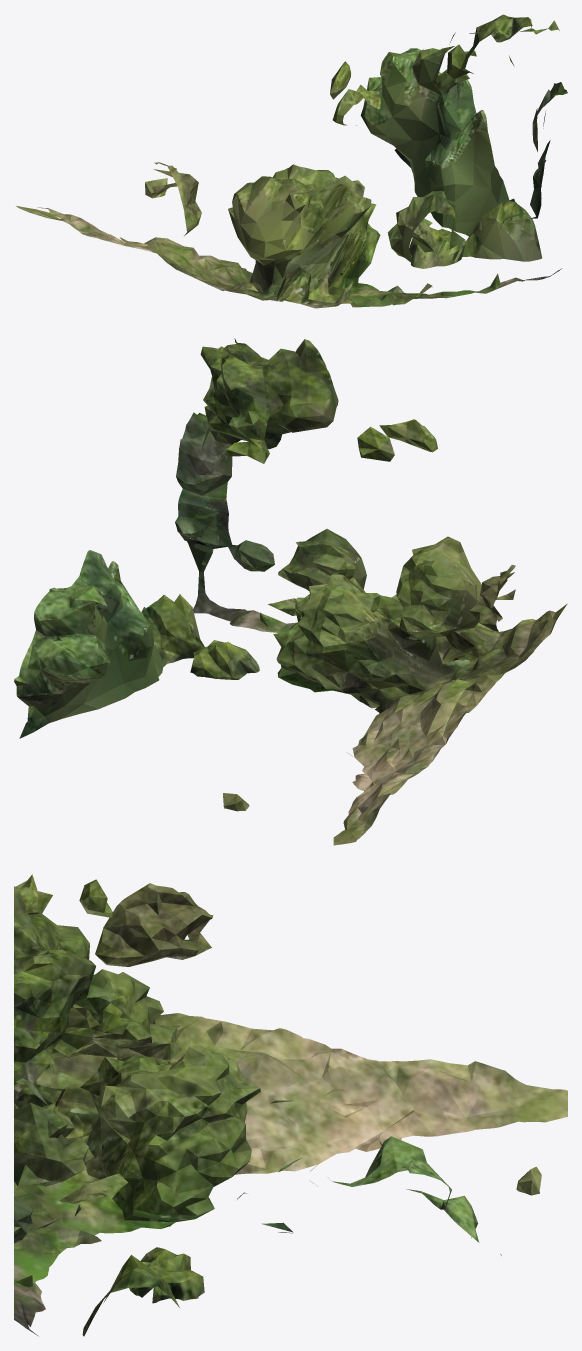
3 renders of one model, top to bottom at view 1: azimuth 30°, elevation 25°; view 2: azimuth 150°, elevation 25°; view 3: azimuth 270°, elevation 25°, orthographic. The views are drawn at different scales.
Bounding box in the file's own units: 26.11 × 19.87 × 26.11.
4 materials, 4 textured.
